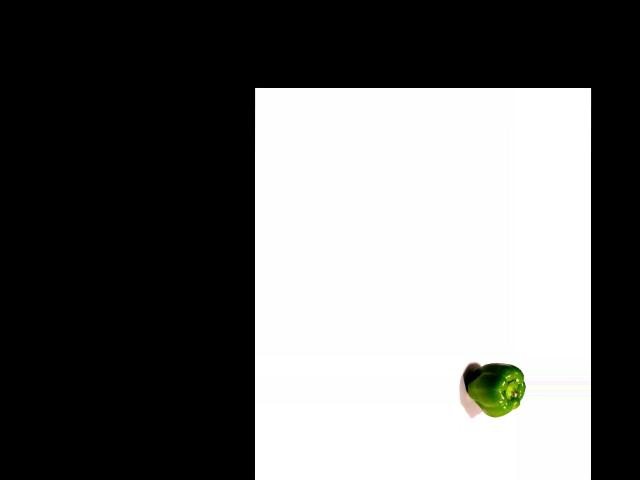bell_pepper: (464, 362, 525, 419)
